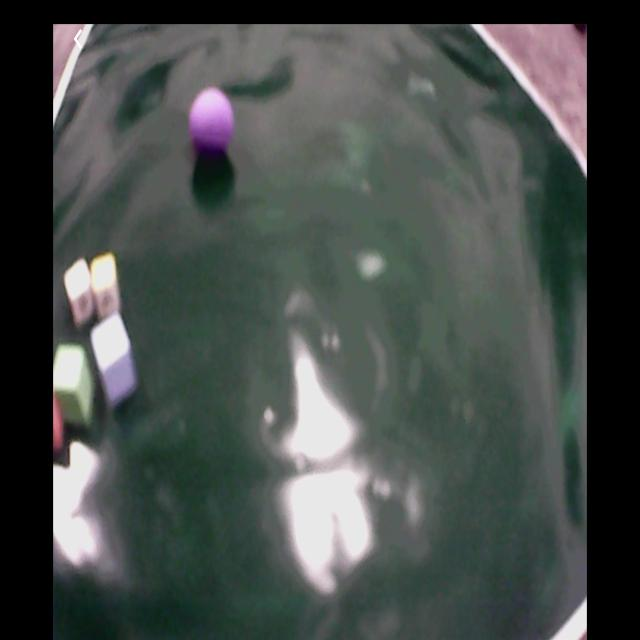ball: (191, 88, 234, 157)
